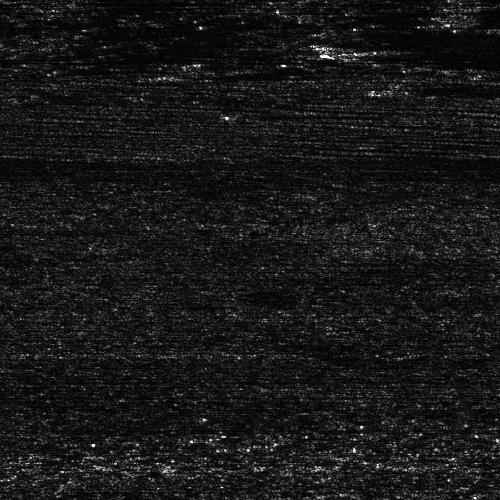rock: (154, 73, 227, 78), (218, 111, 281, 116)
shadow: (0, 49, 80, 60), (191, 73, 275, 78), (250, 111, 334, 116)
